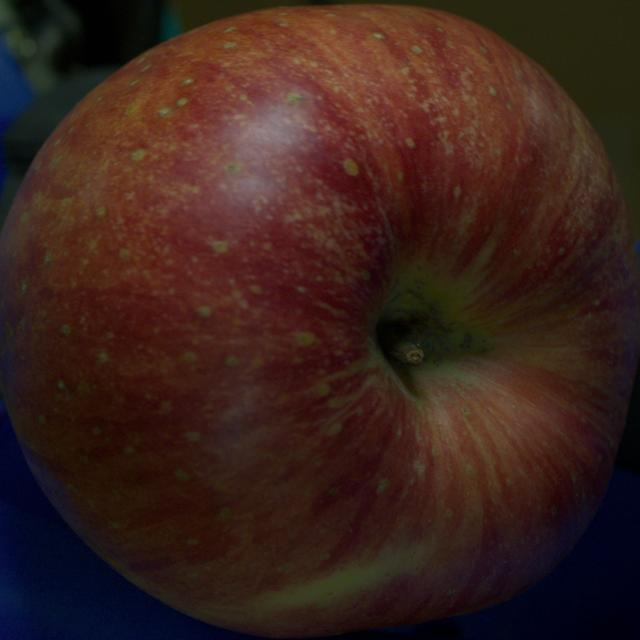apple: (0, 5, 639, 637)
